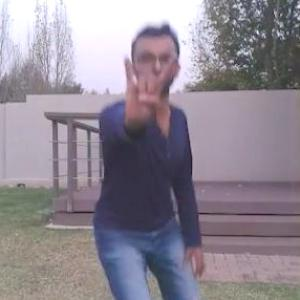takeoff-hand: (112, 47, 180, 121)
